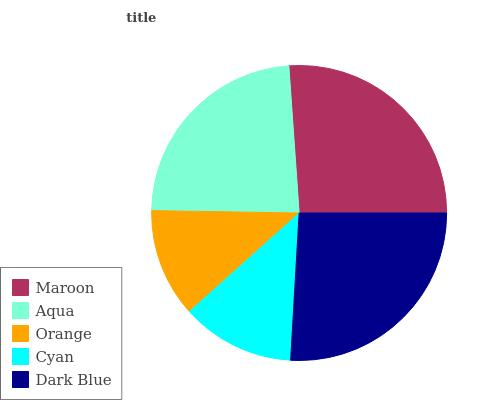legend: (0, 269, 122, 400)
sector: (289, 64, 448, 213), (289, 213, 445, 361), (149, 64, 300, 212), (188, 212, 300, 361), (151, 210, 299, 310)
